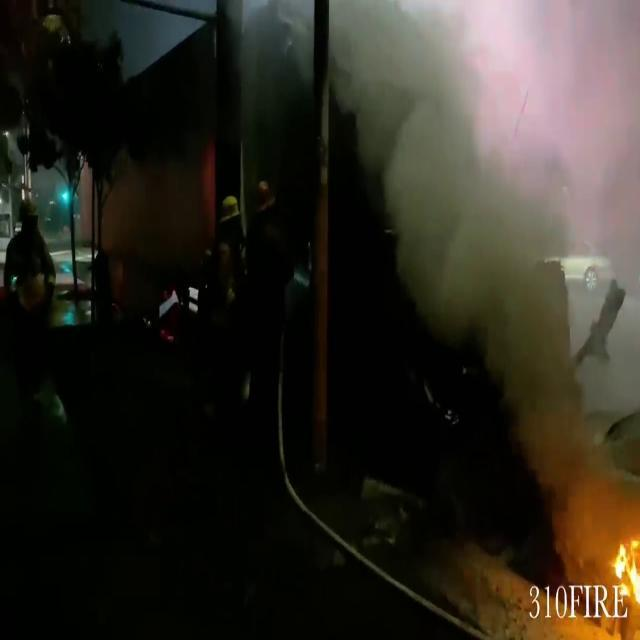Fire: (603, 524, 640, 614)
Smoke: (335, 0, 640, 541)
